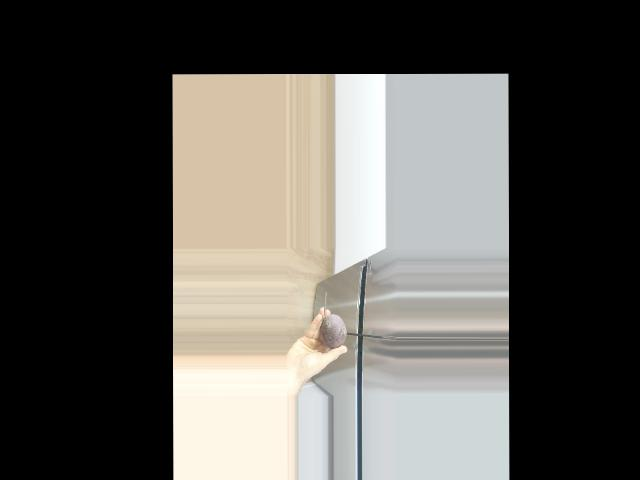beet: (320, 291, 346, 348)
